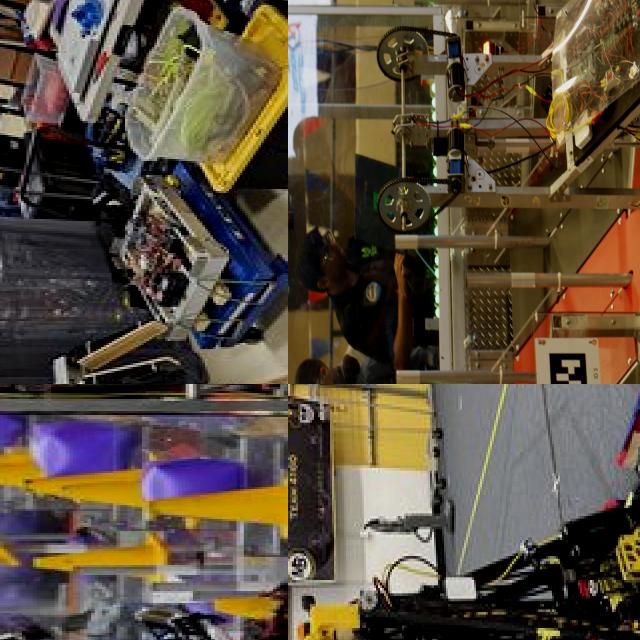FRC-Robots: (370, 0, 640, 384), (288, 385, 640, 640), (0, 520, 288, 640), (0, 513, 179, 640), (100, 183, 225, 343)
